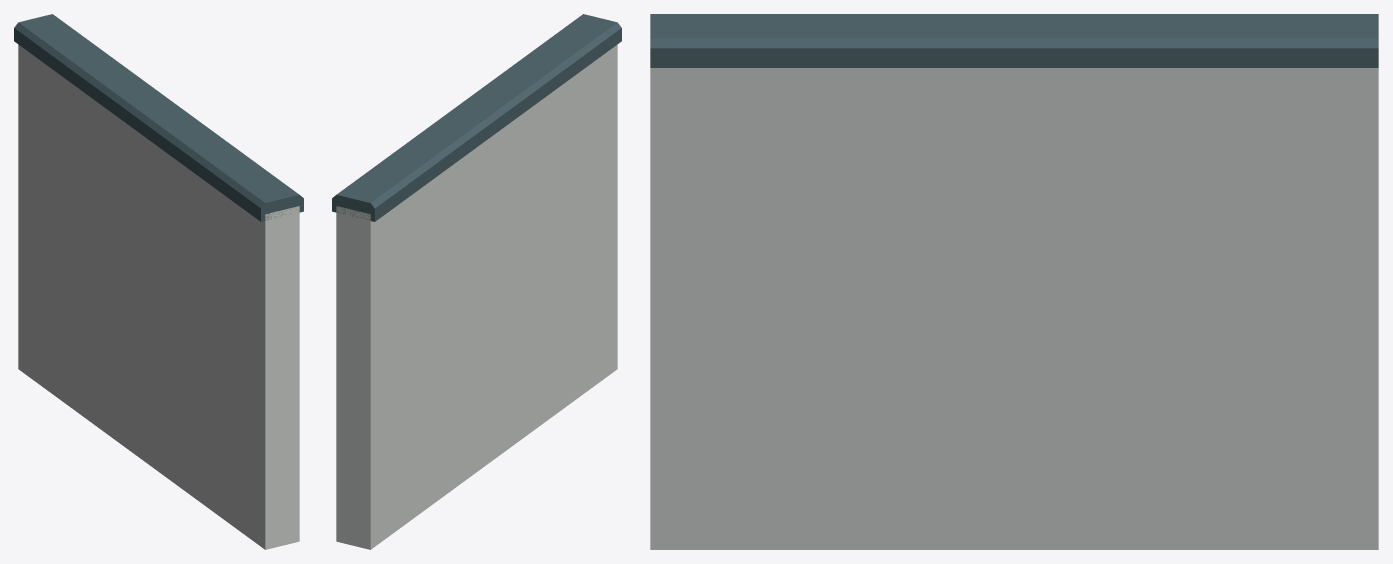
Rendered from halfwall_straight_100cm_miter_10000_0_10000_0.glb.
3 renders of one model, left to right at view 1: azimuth 30°, elevation 25°; view 2: azimuth 150°, elevation 25°; view 3: azimuth 270°, elevation 25°, orthographic. The views are drawn at different scales.
Visible parts, largest first — view 1: Seamless solid halfwall.018, Seamless top cap.018; view 2: Seamless solid halfwall.018, Seamless top cap.018; view 3: Seamless solid halfwall.018, Seamless top cap.018.
Part boxes in pixels (x1,y1,x2,y2): Seamless solid halfwall.018: (18, 44, 299, 549); Seamless top cap.018: (14, 14, 303, 221); Seamless solid halfwall.018: (336, 44, 617, 549); Seamless top cap.018: (332, 14, 621, 221); Seamless solid halfwall.018: (650, 68, 1378, 549); Seamless top cap.018: (650, 14, 1378, 67).
Size of the model in its own units: 0.1 by 0.775 by 1.
